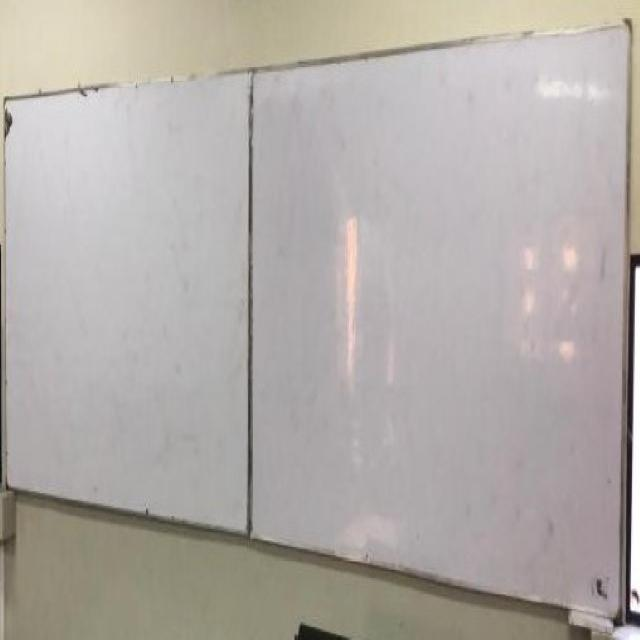White-board: (1, 21, 625, 619)
